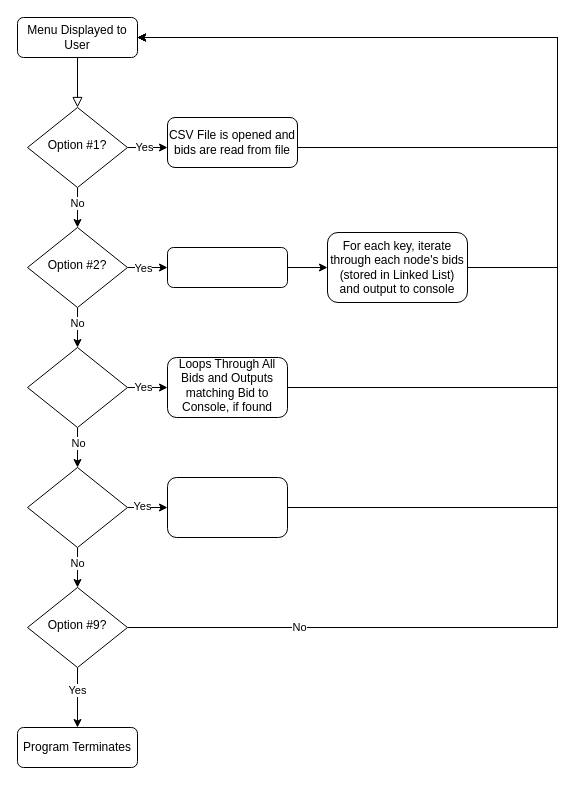
This 583x785 diagram has some shape labels left out. The shapes that lost their labels are listed below. From the top down, each one's centre as x and y in pixels, then its label:
At pixel 227 267: "Iterates through each key (0 - 178)".
At pixel 77 387: "Option #3?".
At pixel 77 507: "Option #4?".
At pixel 227 507: "Loops Through Bids and removes Bid with matching BidID, if found".
